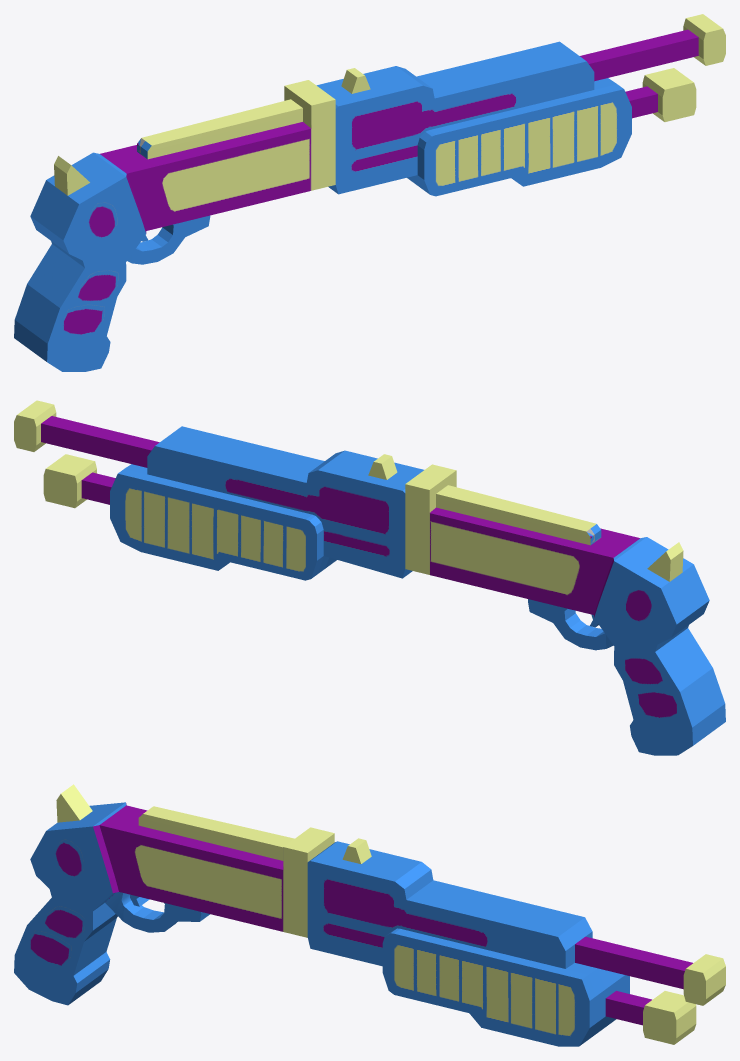
The model's file is Shotgun_low.fbx.
3 views of the same model, one above another, from view 1: azimuth 30°, elevation 25°; view 2: azimuth 150°, elevation 25°; view 3: azimuth 330°, elevation 25° (orthographic).
Visible parts, largest first — view 1: pCube1; view 2: pCube1; view 3: pCube1.
Boxes of the visible parts, <box> form: pCube1: <box>14,14,725,371</box>; pCube1: <box>14,400,725,755</box>; pCube1: <box>14,784,725,1046</box>.
Bounding box in the file's own units: 19.07 × 5.74 × 1.94.
1 material, 1 textured.
